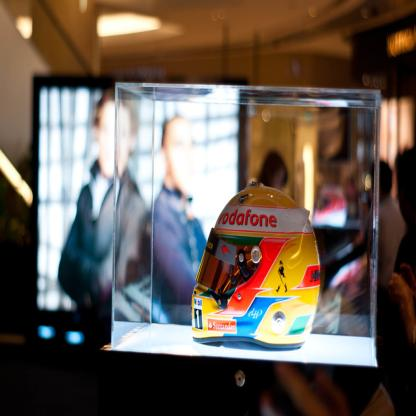Helmet: (197, 196, 327, 354)
